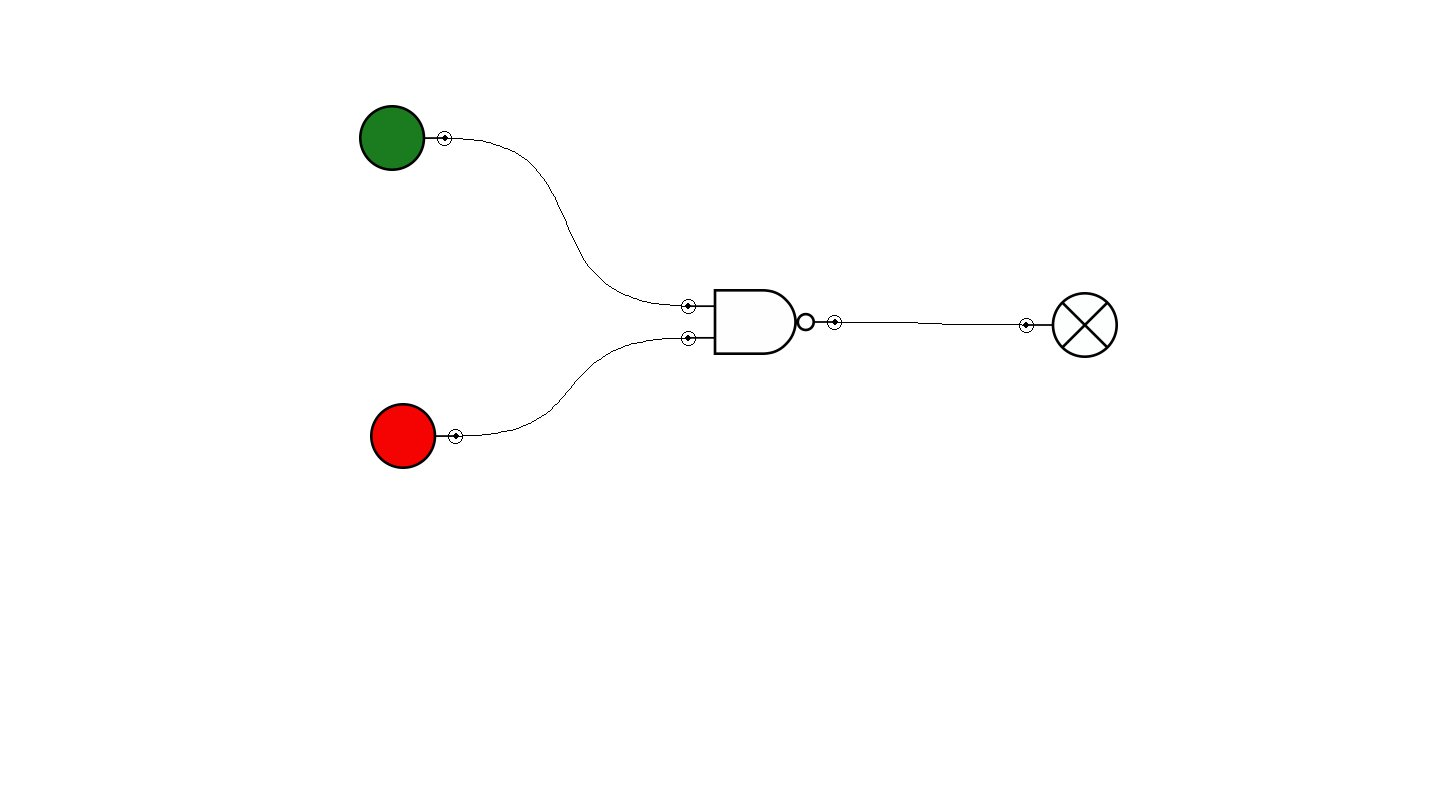bulb: (1019, 292, 1118, 358)
nand: (681, 289, 842, 355)
switch_False: (370, 403, 463, 469)
switch_True: (359, 105, 452, 171)
